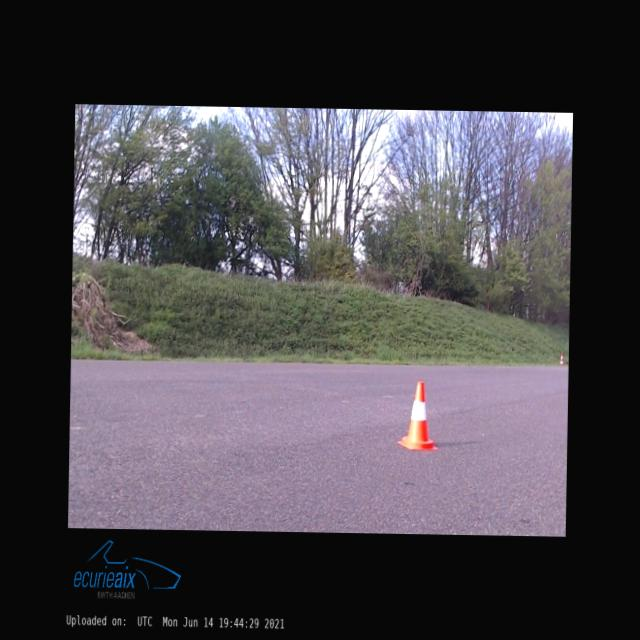orange_cone: (397, 380, 439, 450)
